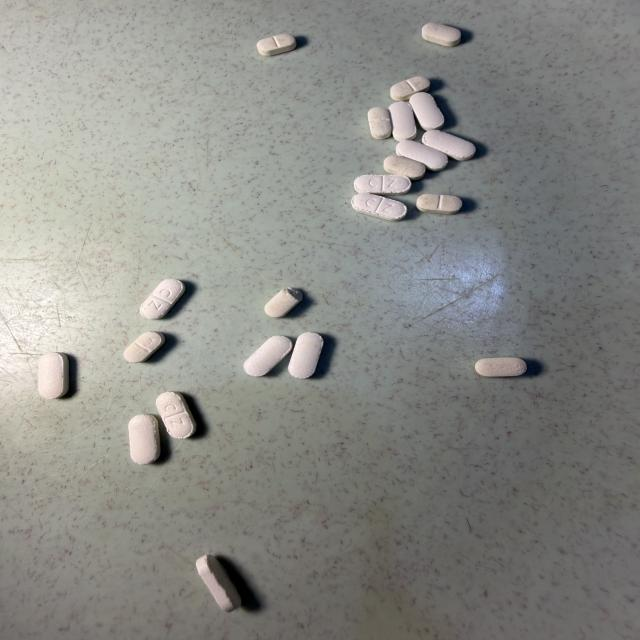pill: (196, 555, 241, 612), (244, 336, 292, 376), (156, 392, 195, 439), (140, 279, 185, 319), (396, 140, 448, 171), (289, 333, 323, 378), (129, 415, 160, 464), (423, 131, 475, 160), (352, 193, 407, 220), (39, 353, 68, 399), (410, 93, 444, 130), (124, 332, 165, 362), (265, 288, 303, 317), (354, 175, 411, 194), (389, 102, 416, 140), (384, 156, 426, 180), (475, 357, 526, 376), (391, 76, 430, 100), (417, 194, 462, 214), (422, 23, 461, 46), (257, 34, 296, 55), (368, 107, 391, 139)
